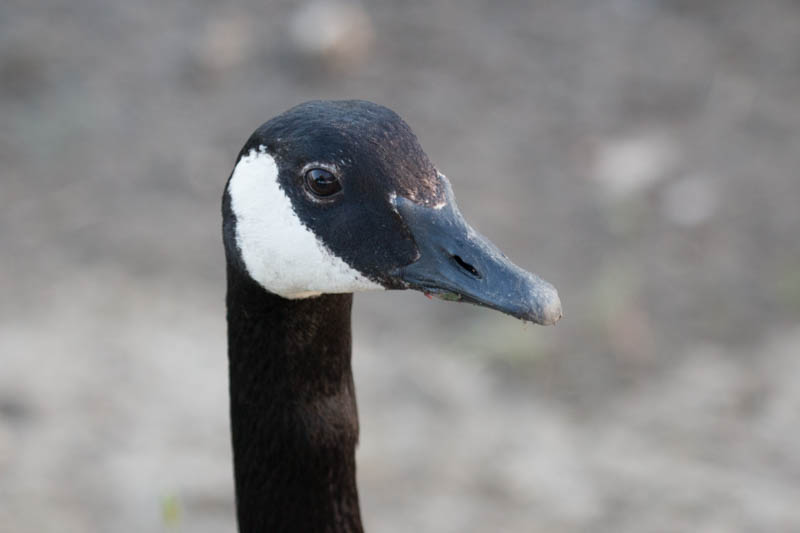goose-head: (219, 98, 564, 330)
